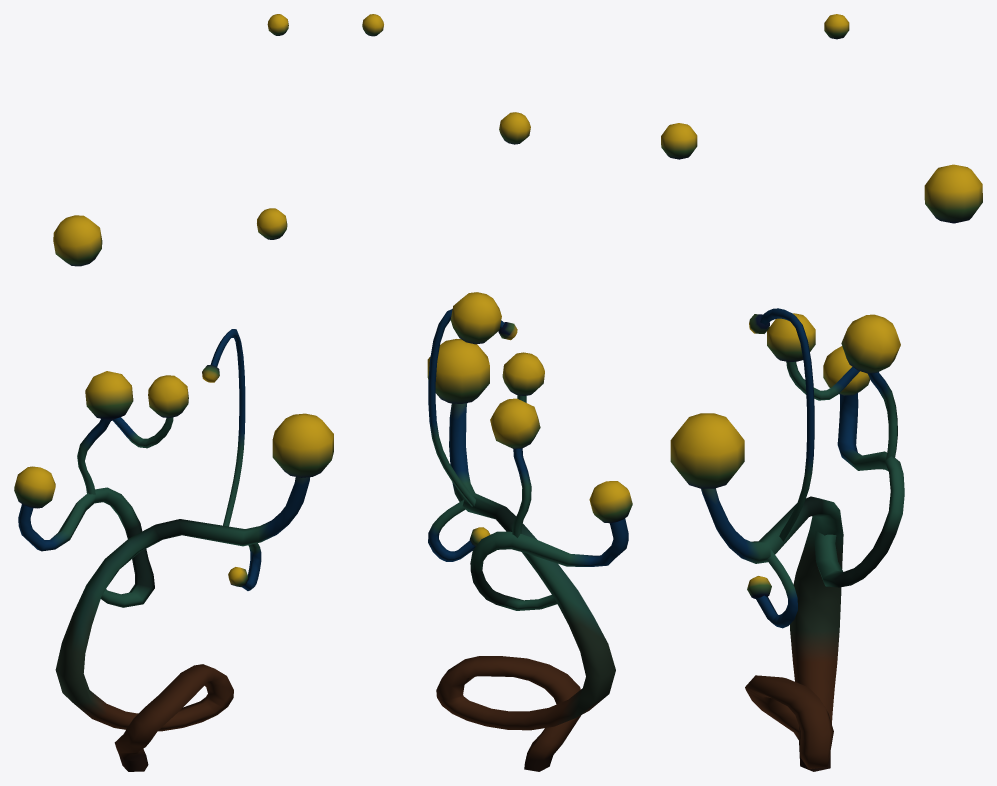
File: Alien_Tree03.fbx
3 renders of one model, left to right at view 1: azimuth 30°, elevation 25°; view 2: azimuth 150°, elevation 25°; view 3: azimuth 270°, elevation 25°, orthographic. The views are drawn at different scales.
Visible parts, largest first — view 1: Alien_Tree03; view 2: Alien_Tree03; view 3: Alien_Tree03.
Boxes of the visible parts, x1=… form: Alien_Tree03: x1=14, y1=14, x2=333, y2=771; Alien_Tree03: x1=362, y1=14, x2=632, y2=771; Alien_Tree03: x1=661, y1=14, x2=982, y2=771.
Size of the model in its own units: 7190 by 18288 by 6367.
